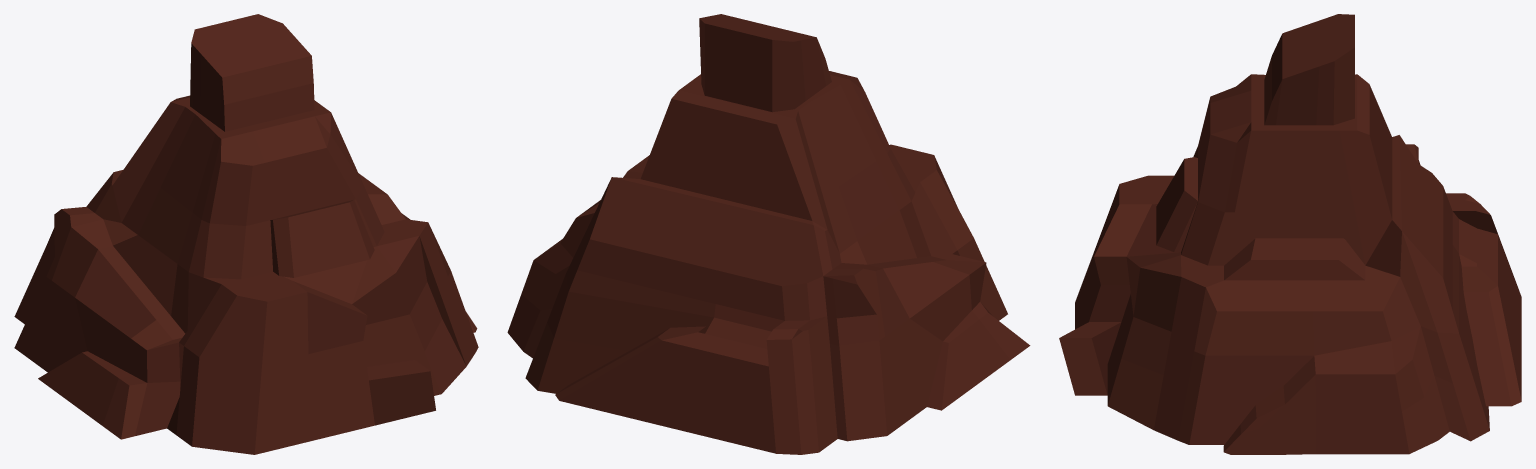
The model's file is vulcao.fbx.
3 renders of one model, left to right at view 1: azimuth 30°, elevation 25°; view 2: azimuth 150°, elevation 25°; view 3: azimuth 270°, elevation 25°, orthographic. The views are drawn at different scales.
Parts seen in each view (by area): view 1: Cube; view 2: Cube; view 3: Cube.
Part boxes in pixels (bbox=[...]): Cube: bbox=[14, 14, 478, 454]; Cube: bbox=[507, 14, 1030, 454]; Cube: bbox=[1059, 14, 1521, 454].
Bounding box in the file's own units: 915 × 735 × 916.
